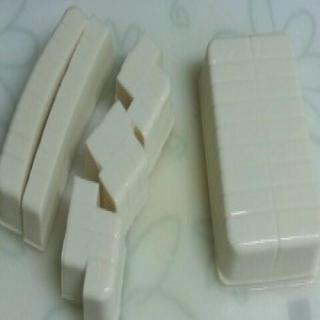Tahu: (60, 36, 175, 320), (199, 34, 320, 287), (1, 7, 116, 253)
